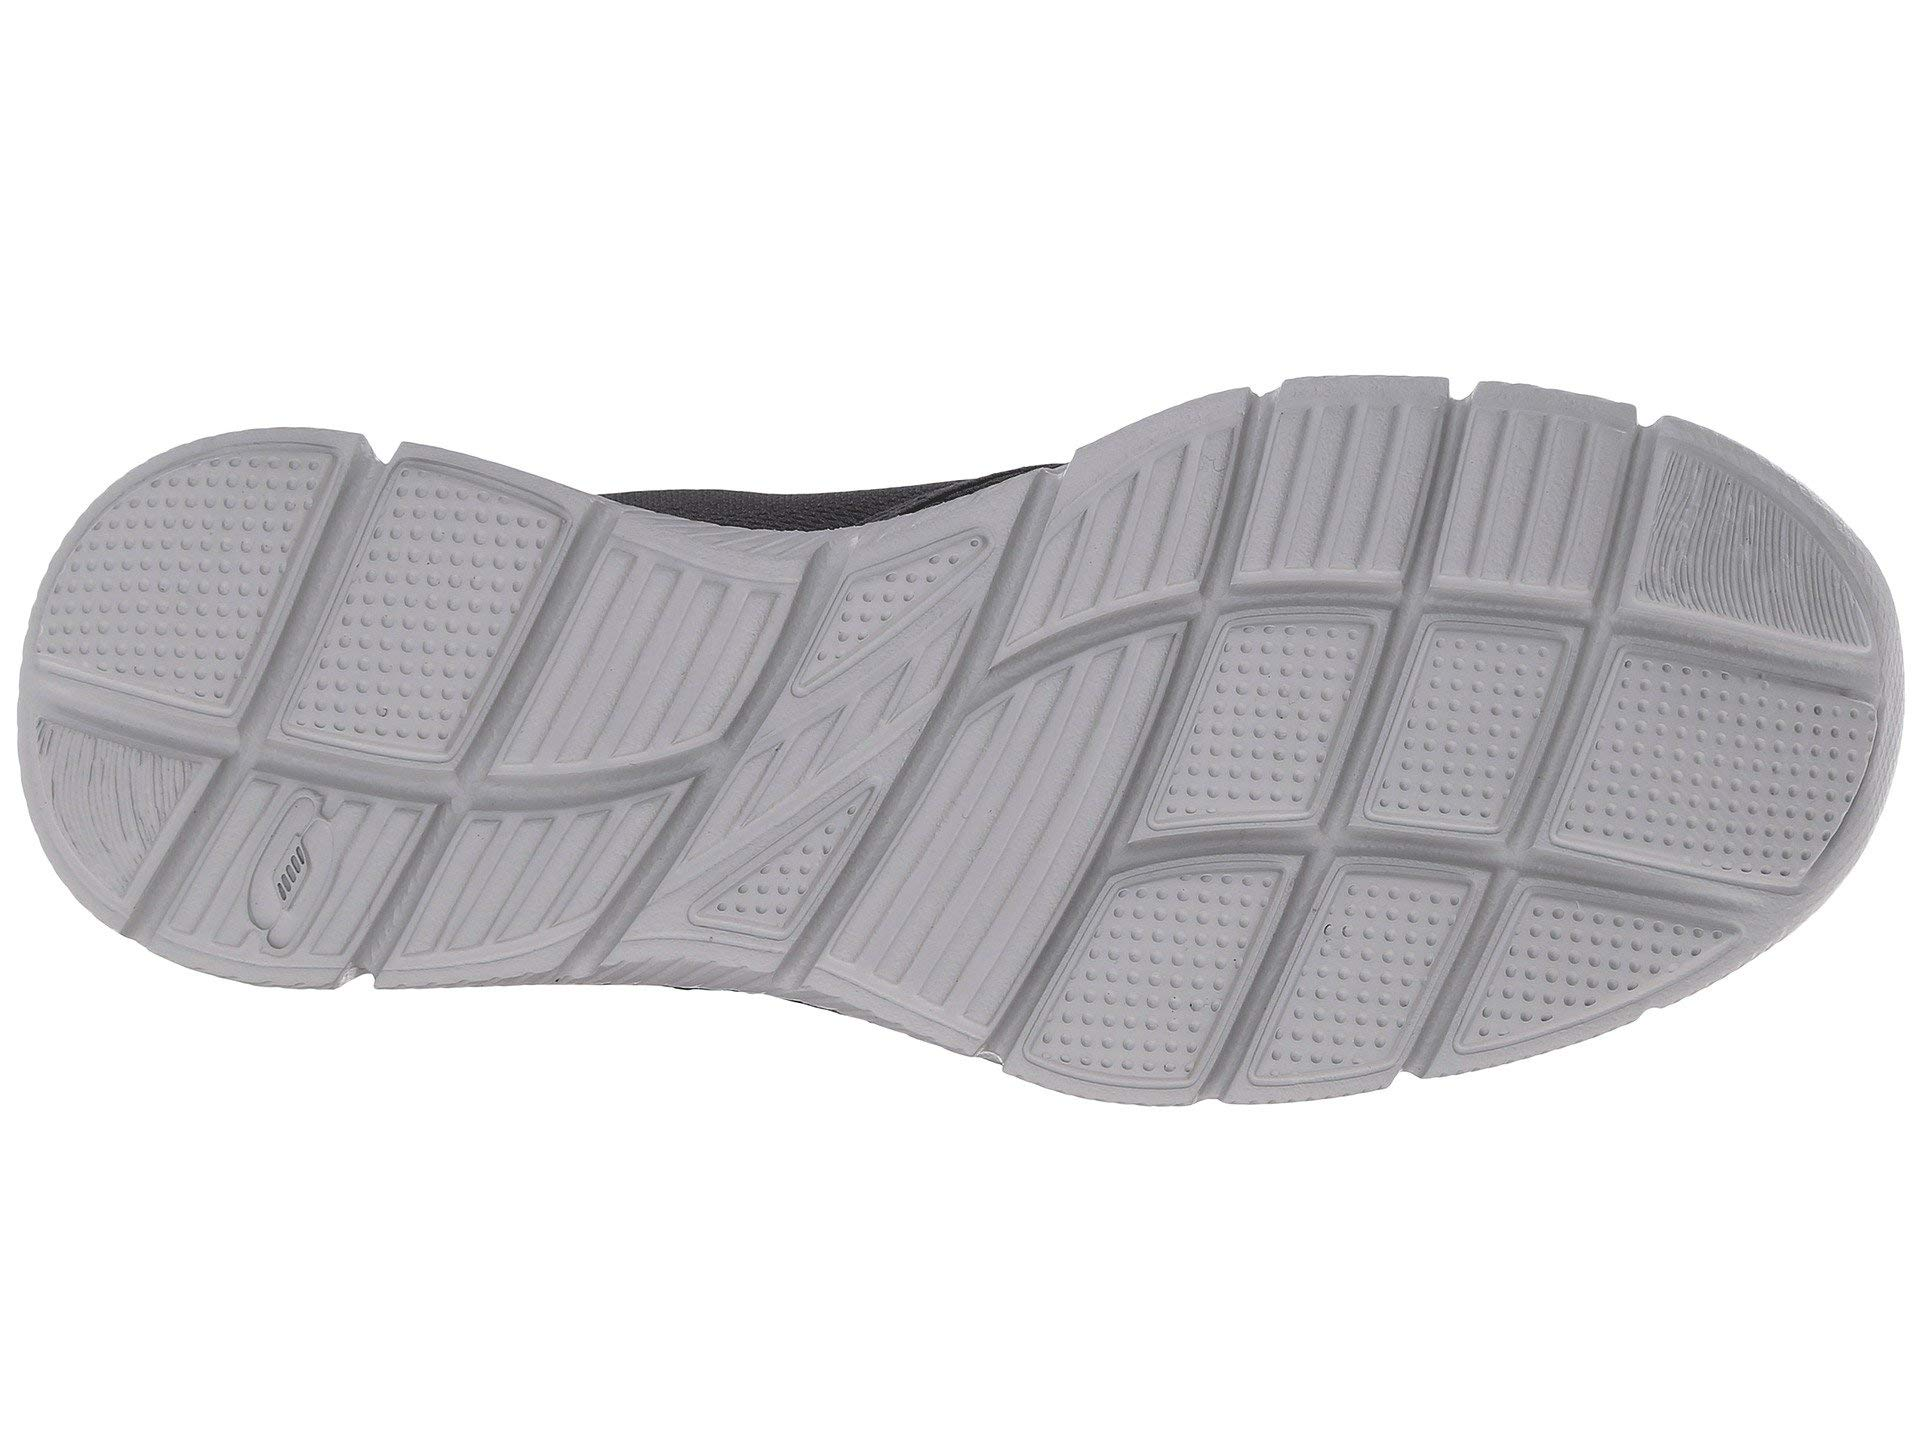circle: (118, 481, 565, 787), (1568, 613, 1870, 895), (1132, 582, 1377, 867), (770, 523, 1033, 703), (685, 776, 883, 997)
quad: (1132, 582, 1377, 867), (396, 791, 674, 979), (1212, 398, 1442, 573), (1445, 392, 1634, 605)
triangle: (770, 523, 1033, 703), (685, 776, 883, 997)
